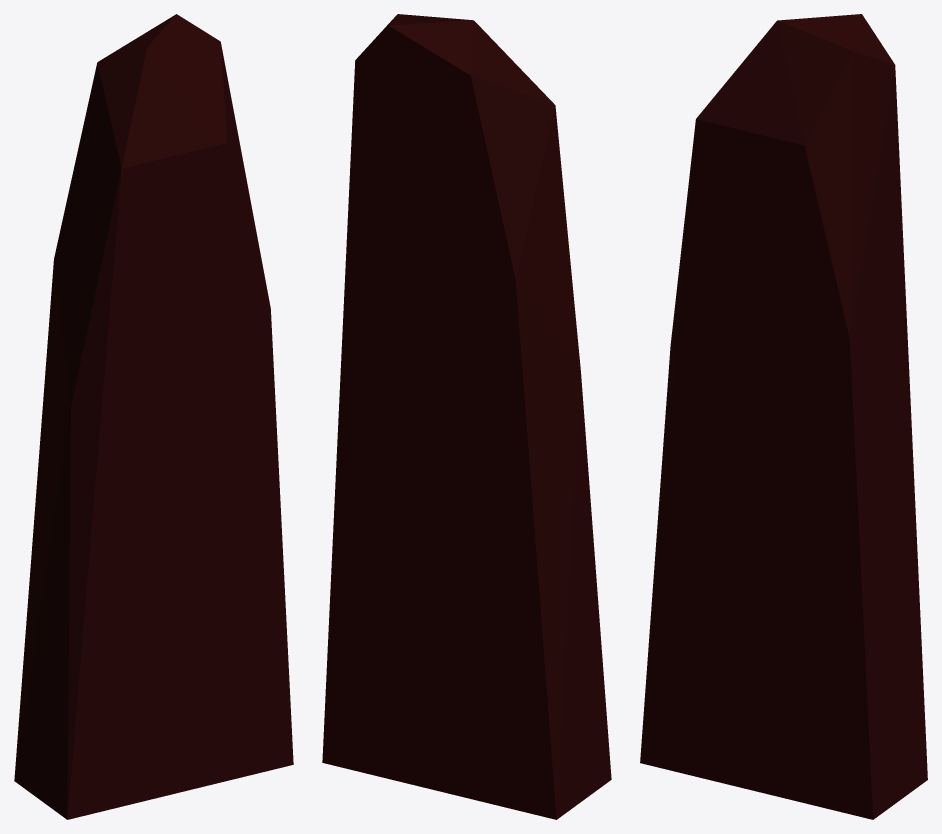
File: UCX_Castle_Wall_E.fbx
The picture shows the model from 3 angles, left to right: view 1: azimuth 30°, elevation 25°; view 2: azimuth 150°, elevation 25°; view 3: azimuth 330°, elevation 25°; orthographic projection. The views are drawn at different scales.
Visible parts, largest first — view 1: UCX_Castle_Wall_E; view 2: UCX_Castle_Wall_E; view 3: UCX_Castle_Wall_E.
Part boxes in pixels (x1=…): UCX_Castle_Wall_E: x1=14, y1=14, x2=293, y2=819; UCX_Castle_Wall_E: x1=322, y1=14, x2=611, y2=819; UCX_Castle_Wall_E: x1=640, y1=14, x2=927, y2=819.
Size of the model in its own units: 549 by 1687 by 223.
